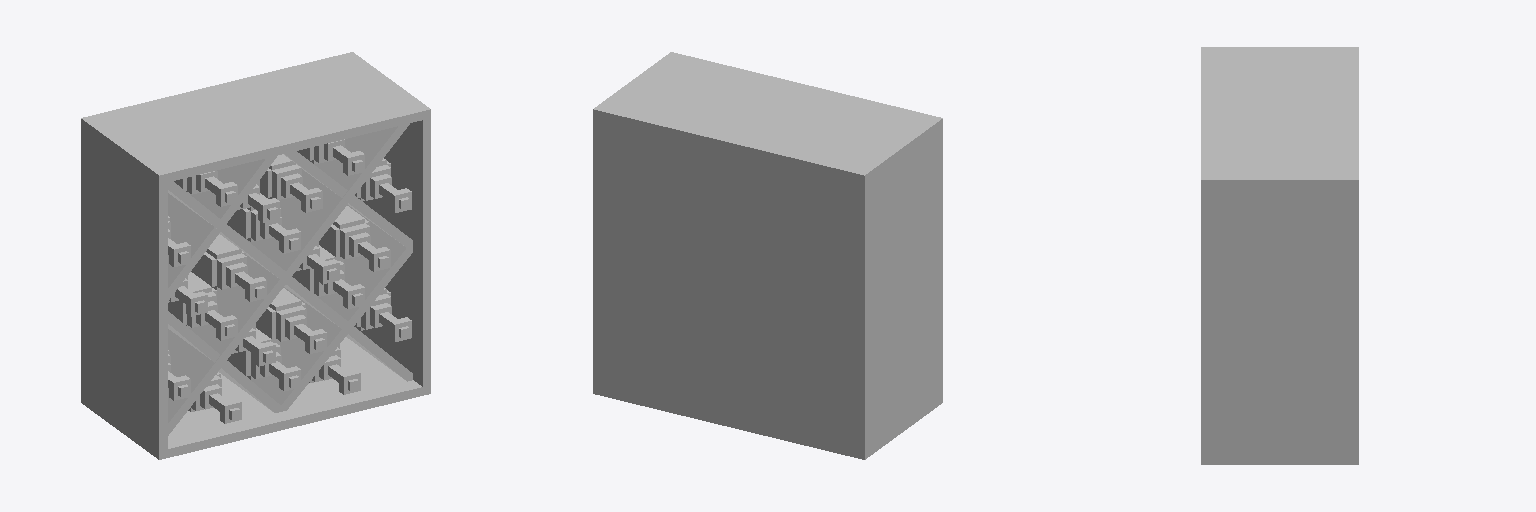
The model's file is 588_beer_rack.obj.
3 renders of one model, left to right at view 1: azimuth 30°, elevation 25°; view 2: azimuth 150°, elevation 25°; view 3: azimuth 270°, elevation 25°, orthographic.
Visible parts, largest first — view 1: frame5, frame4, frame8, frame6, frame1, bottle1q, frame7, bottle4q, bottle3q, frame11, bottle5q, frame3 (+5 smaller); view 2: frame2, frame5, frame4, frame6, frame1; view 3: frame1, frame5, frame6.
Part boxes in pixels (left/top/right/bottom): frame5: left=81, top=52, right=430, bottom=183; frame4: left=81, top=128, right=167, bottom=450; frame8: left=168, top=123, right=409, bottom=435; frame6: left=81, top=337, right=430, bottom=459; frame1: left=354, top=118, right=430, bottom=386; bottle1q: left=169, top=151, right=411, bottom=423; frame7: left=251, top=205, right=412, bottom=410; bottle4q: left=168, top=144, right=390, bottom=410; bottle3q: left=168, top=139, right=391, bottom=409; frame11: left=168, top=156, right=276, bottom=300; bottle5q: left=168, top=147, right=360, bottom=407; frame3: left=168, top=181, right=412, bottom=381; frame2: left=601, top=120, right=855, bottom=448; frame5: left=593, top=52, right=942, bottom=183; frame4: left=856, top=128, right=942, bottom=450; frame6: left=593, top=385, right=942, bottom=459; frame1: left=593, top=118, right=600, bottom=386; frame1: left=1201, top=189, right=1358, bottom=455; frame5: left=1201, top=47, right=1358, bottom=188; frame6: left=1201, top=456, right=1358, bottom=464.
Size of the model in its own units: 2 by 2 by 1.